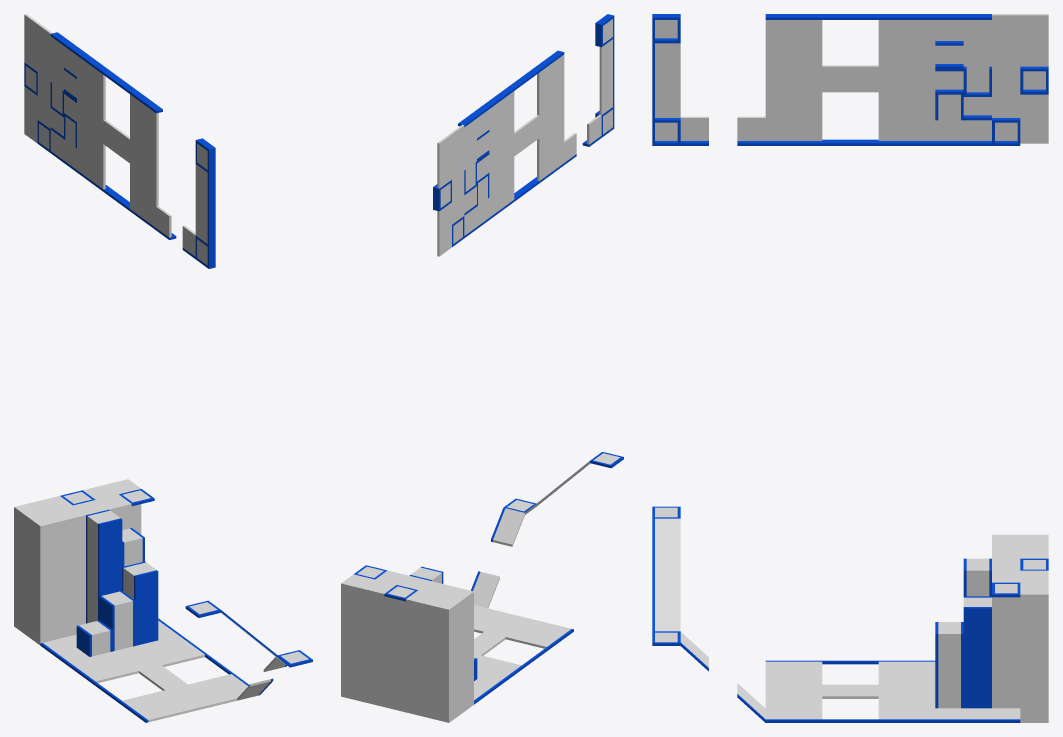
The model's file is tyutorial.fbx.
3 views of the same model, side by side, from view 1: azimuth 30°, elevation 25°; view 2: azimuth 150°, elevation 25°; view 3: azimuth 270°, elevation 25° (orthographic). The views are drawn at different scales.
Parts seen in each view (by area): view 1: 立方体.041, 立方体.044, 立方体.051, 立方体.075, 立方体.005, 立方体.064, 立方体.054, 立方体.072, 立方体.053, 立方体.067, 立方体.076, 立方体.059 (+15 smaller); view 2: 立方体.081, 立方体.012, 立方体.097, 立方体.089, 立方体.084, 立方体.092, 立方体.082, 立方体.103, 立方体.080, 立方体.001, 立方体.075, 立方体.107 (+17 smaller); view 3: 立方体.007, 立方体.011, 立方体.103, 立方体.051, 立方体.009, 立方体.044, 立方体.047, 立方体.107, 立方体.110, 立方体.109, 立方体.150, 立方体.136 (+58 smaller).
Part boxes in pixels (box(x1,y1,x2,y2)): 立方体.041: box(99, 591, 135, 629); 立方体.044: box(122, 561, 158, 600); 立方体.051: box(86, 509, 122, 548); 立方体.075: box(27, 511, 63, 549); 立方体.005: box(76, 620, 112, 656); 立方体.064: box(27, 588, 63, 621); 立方体.054: box(86, 539, 122, 572); 立方体.072: box(27, 541, 63, 573); 立方体.053: box(86, 563, 122, 596); 立方体.067: box(27, 564, 63, 597); 立方体.076: box(50, 505, 85, 544); 立方体.059: box(27, 612, 63, 645); 立方体.081: box(427, 595, 461, 632); 立方体.012: box(491, 507, 524, 546); 立方体.097: box(427, 691, 461, 722); 立方体.089: box(427, 646, 461, 677); 立方体.084: box(427, 623, 461, 654); 立方体.092: box(427, 669, 461, 700); 立方体.082: box(362, 579, 396, 616); 立方体.103: box(341, 574, 374, 611); 立方体.080: box(406, 590, 439, 626); 立方体.001: box(471, 571, 499, 608); 立方体.075: box(440, 586, 473, 622); 立方体.107: box(595, 14, 614, 47); 立方体.007: box(652, 518, 680, 556); 立方体.011: box(652, 593, 680, 631); 立方体.103: box(1020, 582, 1048, 620); 立方体.051: box(963, 558, 991, 596); 立方体.009: box(652, 556, 680, 593); 立方体.044: box(935, 622, 963, 659); 立方体.047: box(963, 596, 991, 633); 立方体.107: box(652, 14, 680, 43); 立方体.110: box(737, 116, 765, 145); 立方体.109: box(680, 116, 708, 145); 立方体.150: box(1020, 66, 1048, 94); 立方体.136: box(963, 92, 991, 120).
Size of the model in its own units: 10000 by 51000 by 28000.
